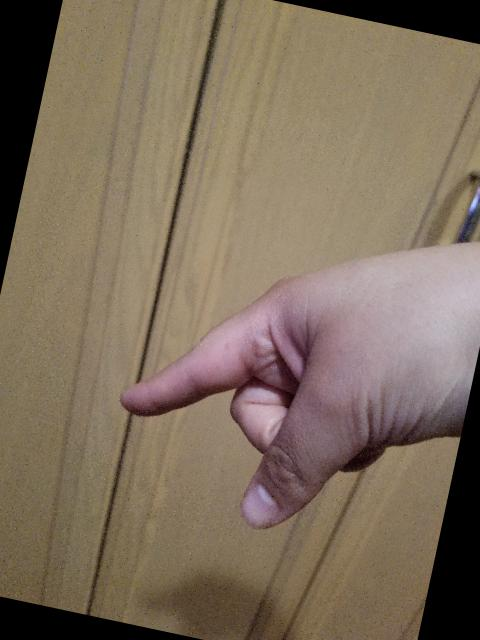Q: (91, 164, 480, 573)
